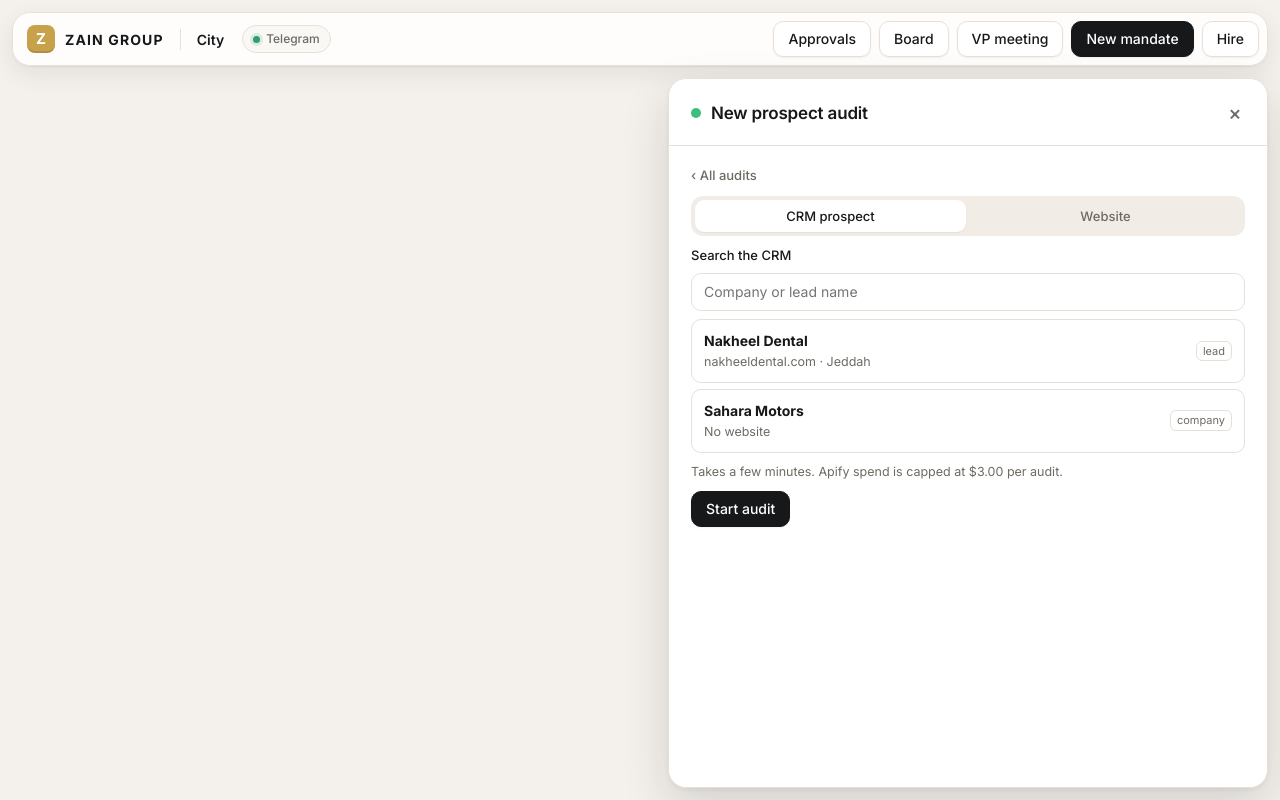
New audit form › validates a pasted website before sending it
The image size is (1280, 800).
Step 1. Click the radio button labelled "Website" → [1106, 216], box [970,200,1241,232]
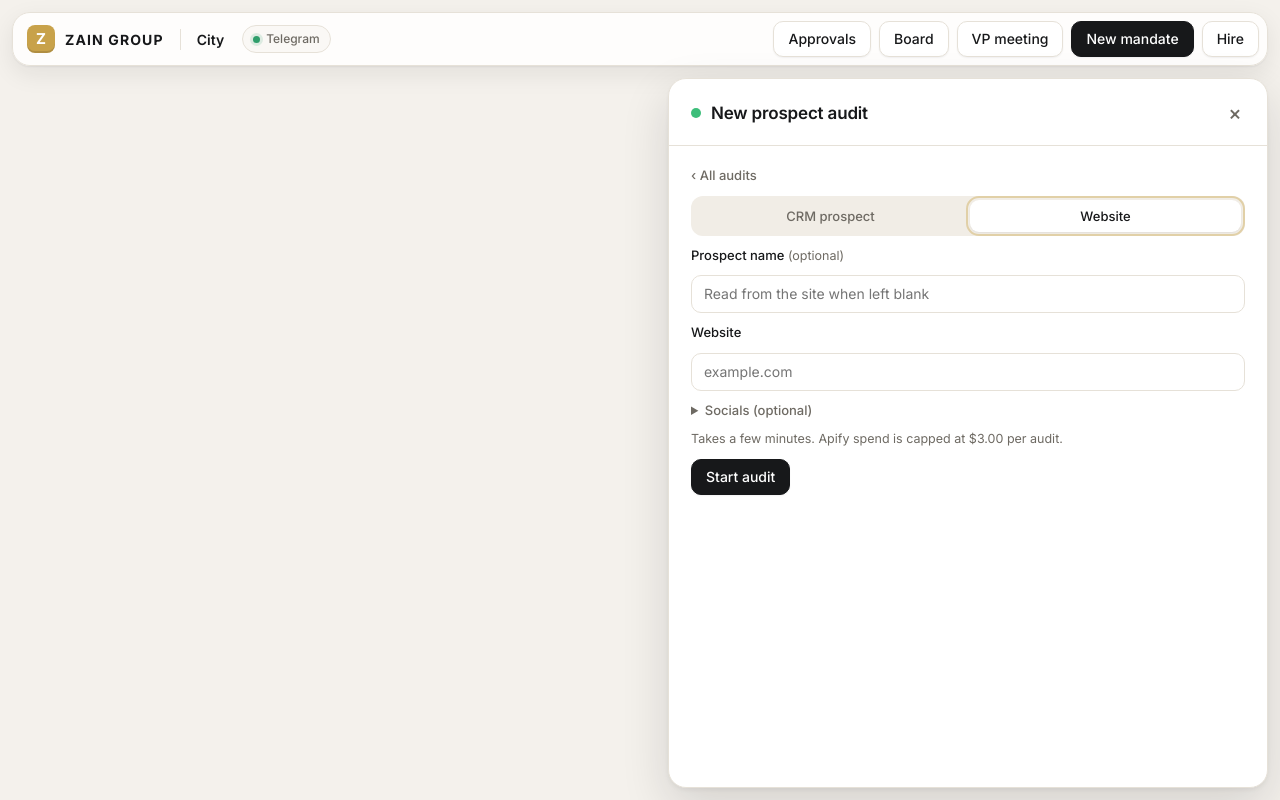
Step 2. Click the button "Start audit" → [741, 477], box [691,459,790,495]
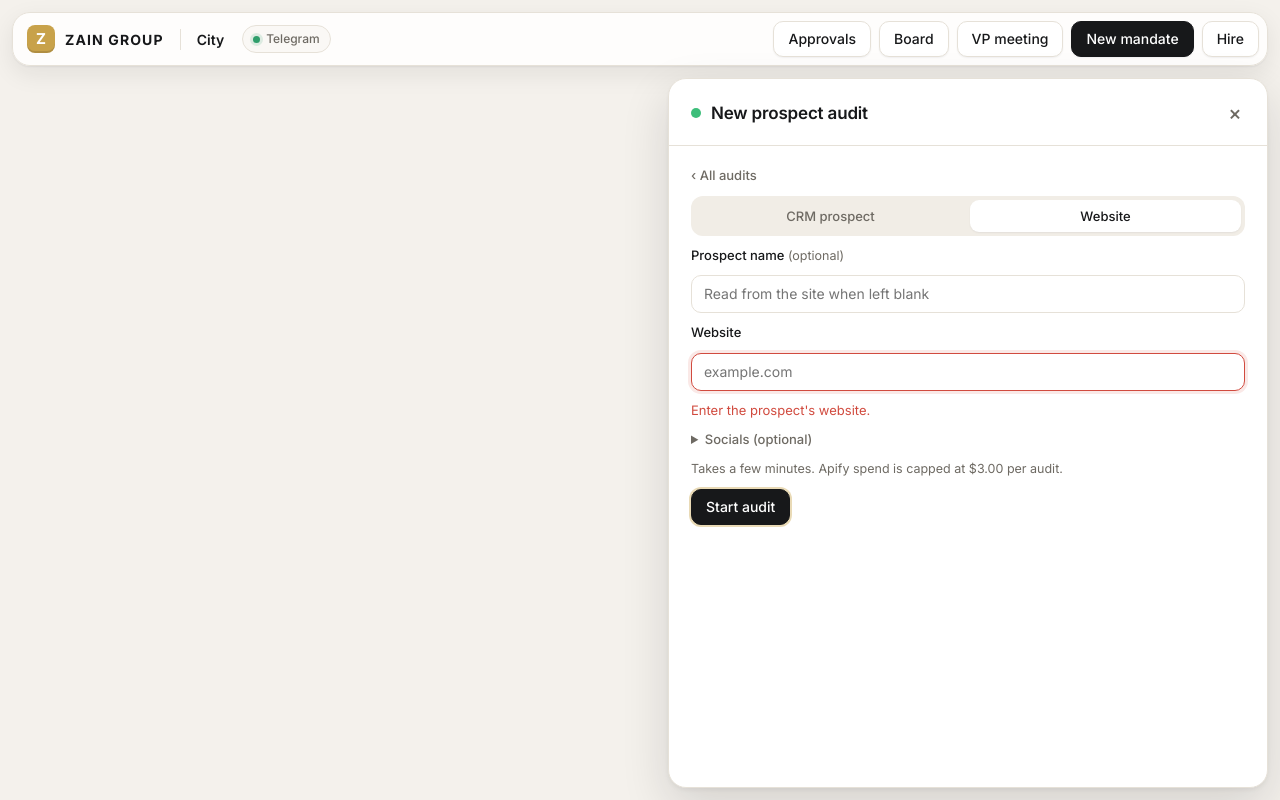
Check: the message reads "Enter the prospect's website.", box [691,402,870,418]
Step 3. Type "not a site" into the field labelled "Website" → [968, 372], box [691,353,1245,391]
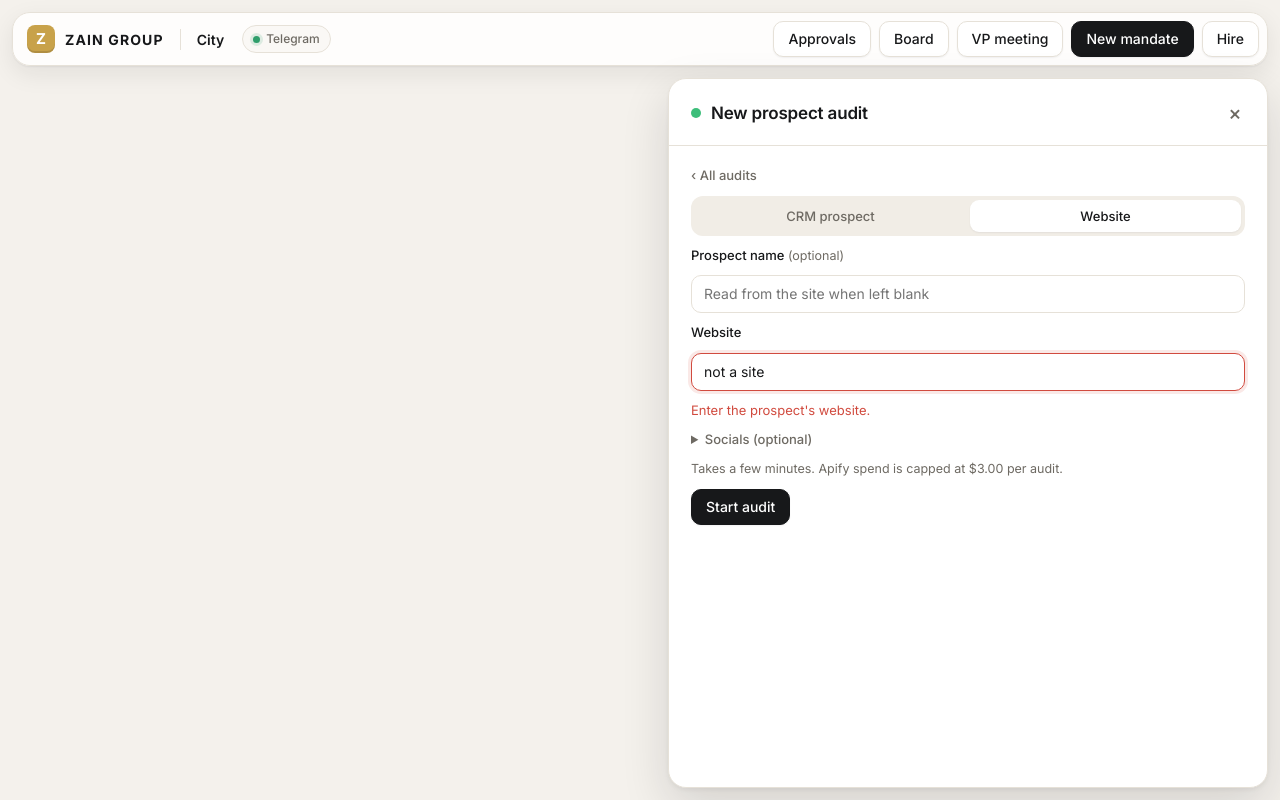
Step 4. Click the button "Start audit" → [741, 506], box [691,488,790,524]
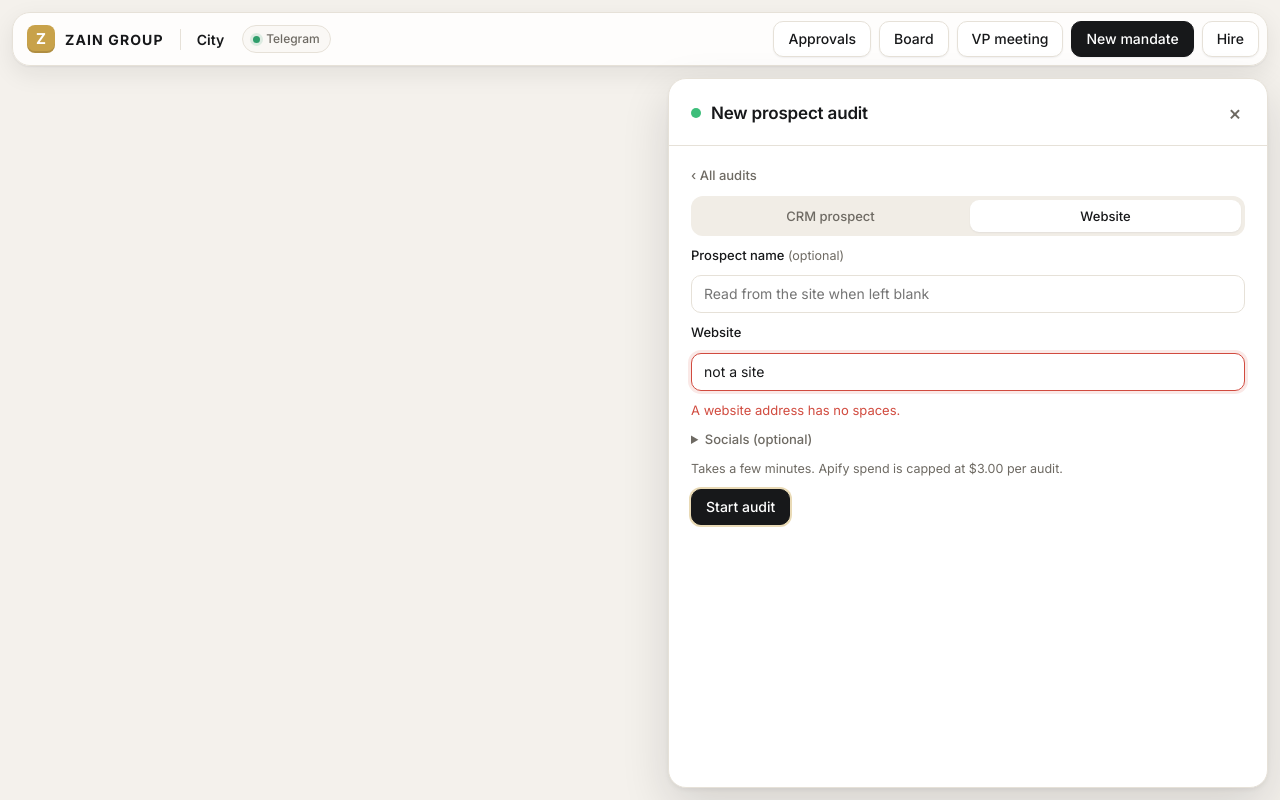
Check: the message reads "A website address has no spaces.", box [691,402,900,418]
Step 5. Replace the text in the field labelled "Website" with "ftp://files.example.com" → [968, 372], box [691,353,1245,391]
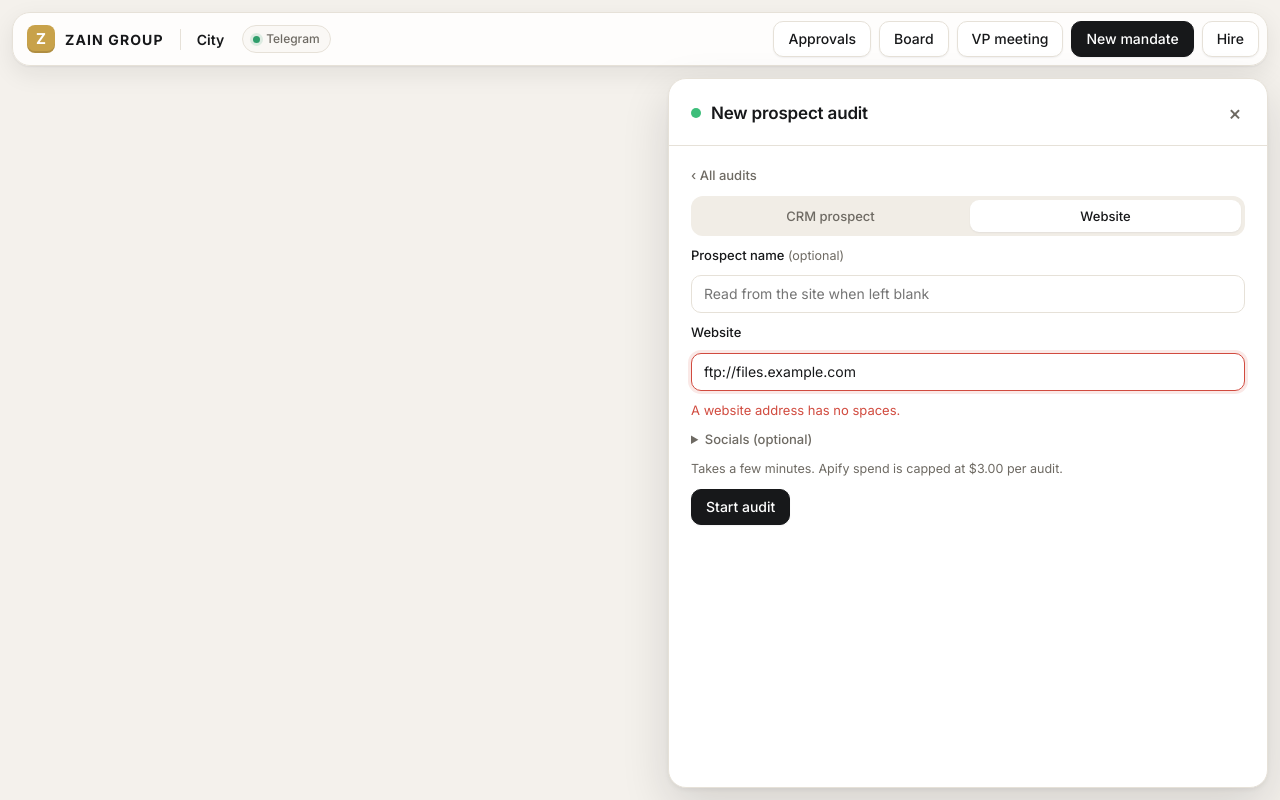
Step 6. Click the button "Start audit" → [741, 506], box [691,488,790,524]
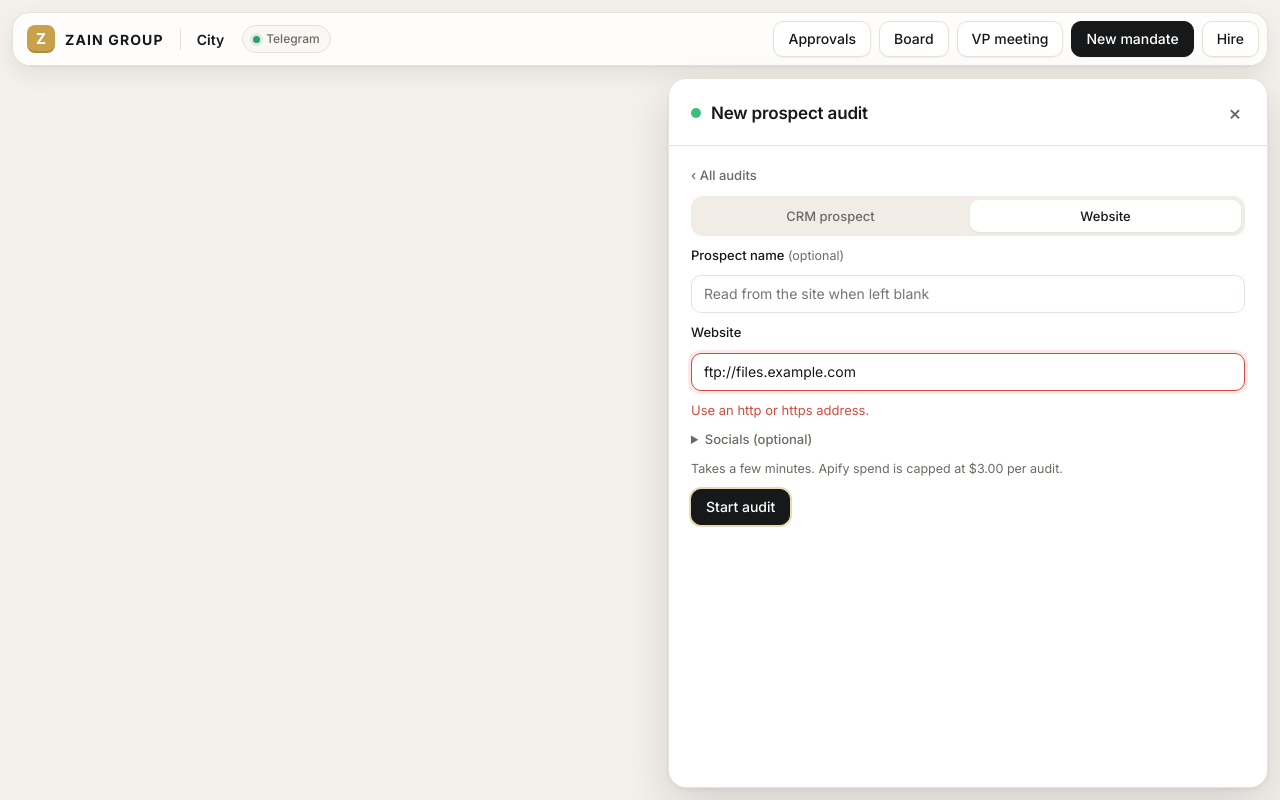
Check: the message reads "Use an http or https address.", box [691,402,869,418]
